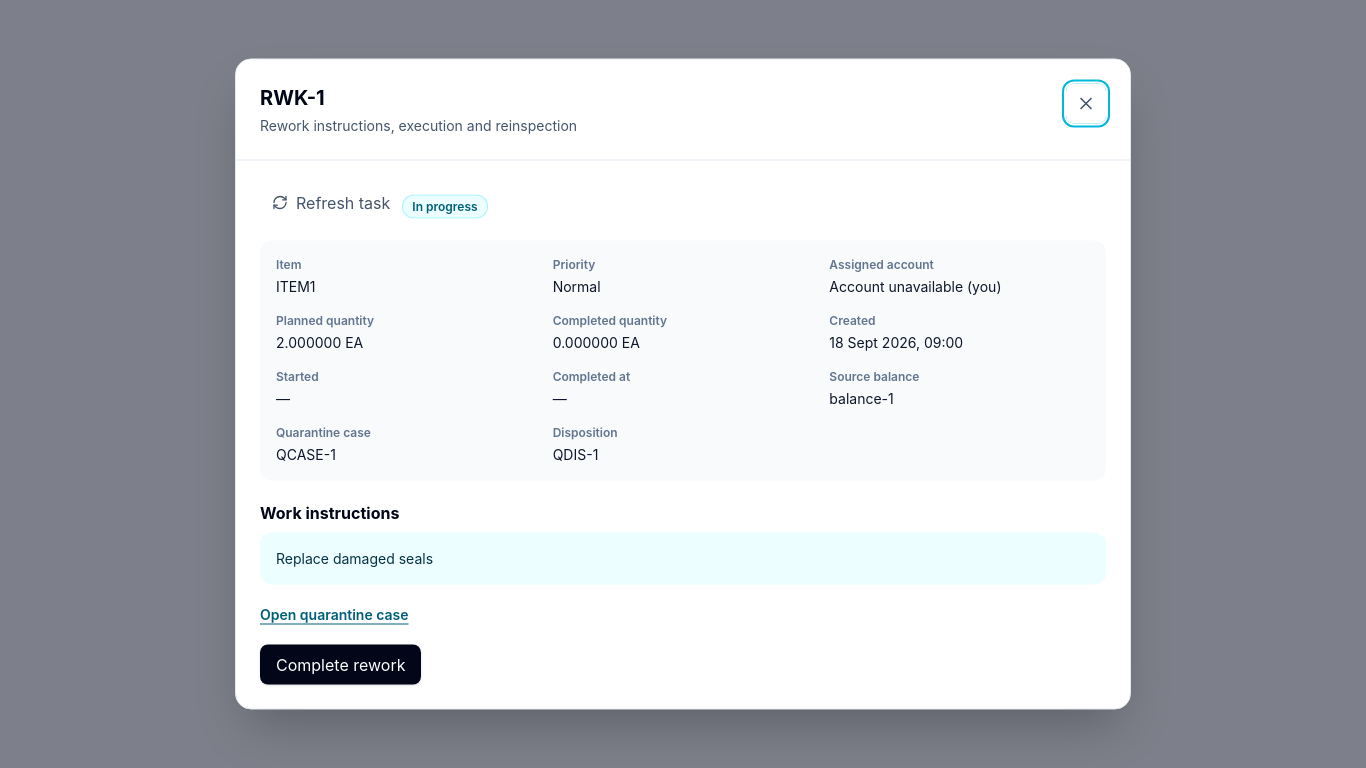
Test: omits optional blank completion notes and cannot partially complete quantity
Click the button "Complete rework": point(341, 664) [260,644,422,684]
(page scrolled)
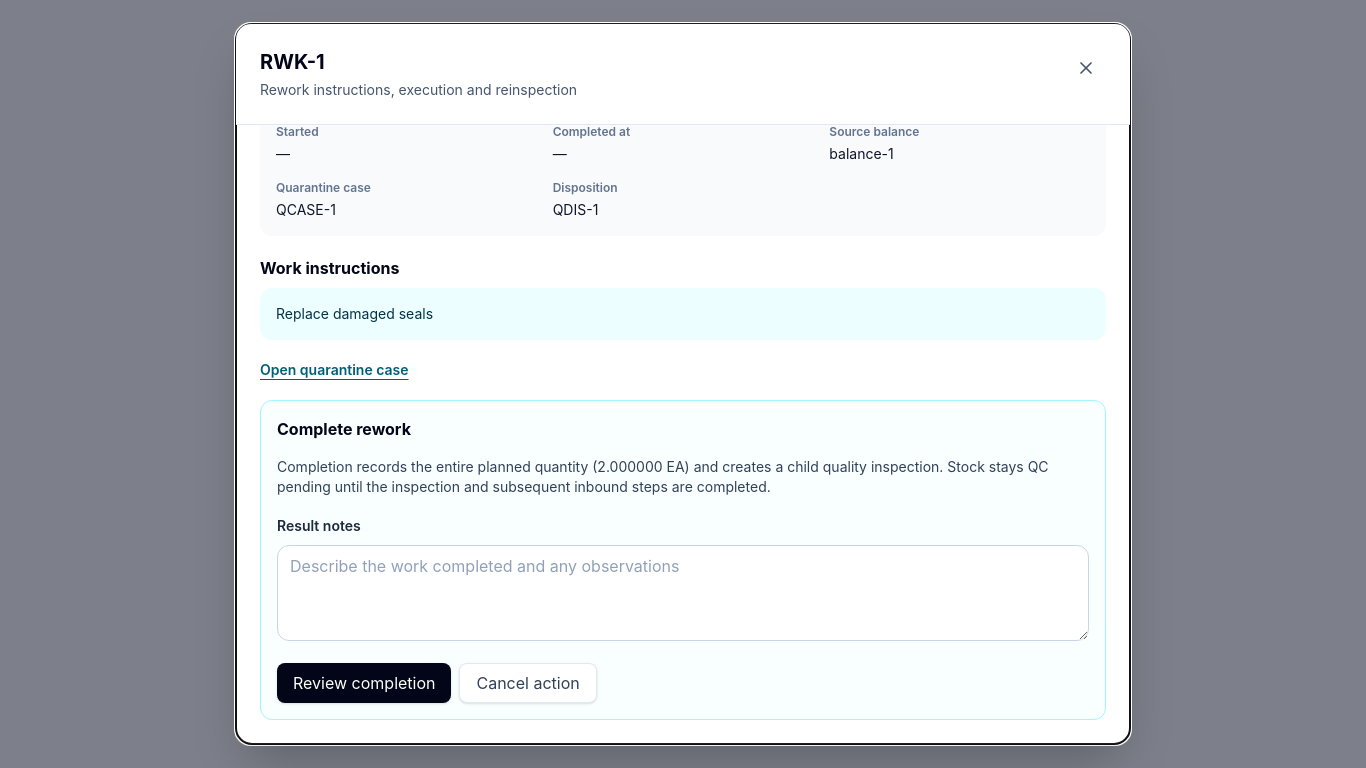
Click the button "Review completion": point(364, 683) [277,663,452,703]
(page scrolled)
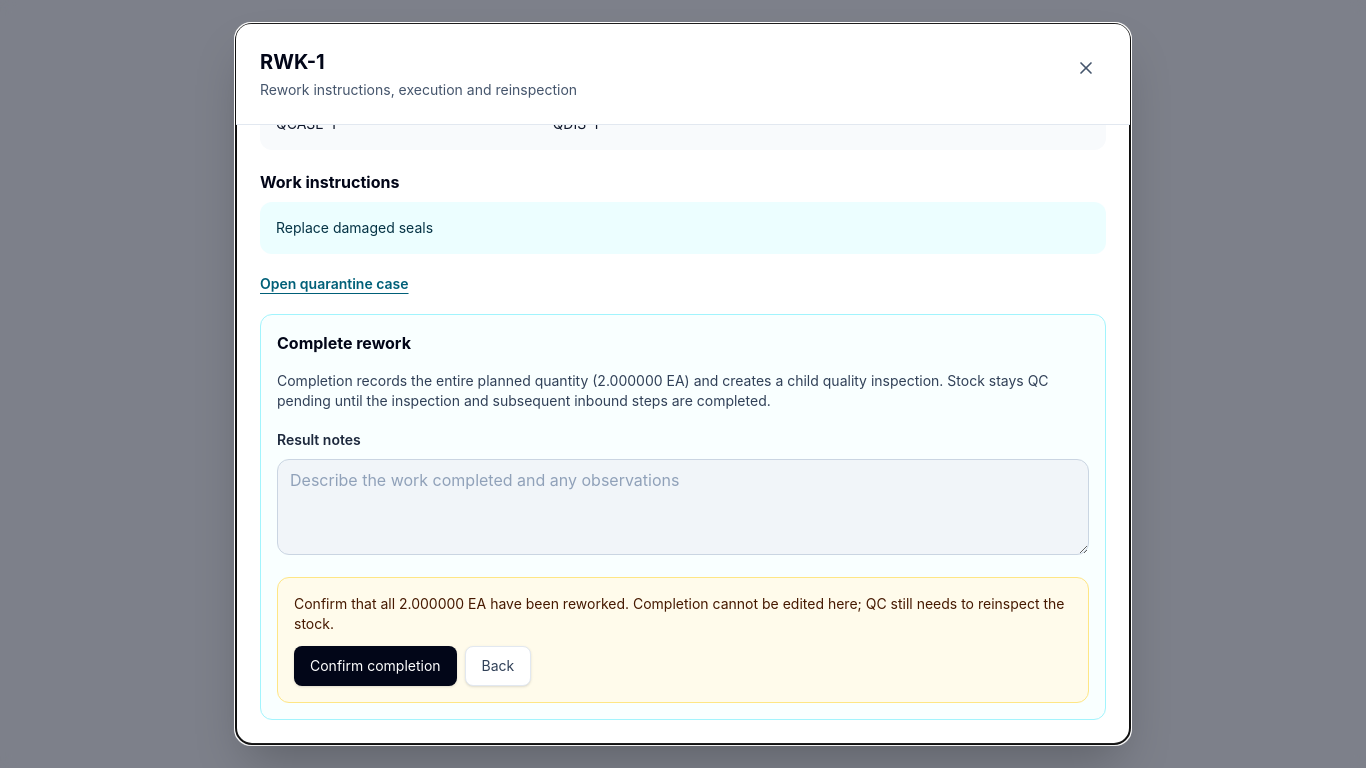
Click the button "Confirm completion": point(375, 666) [294,646,457,686]
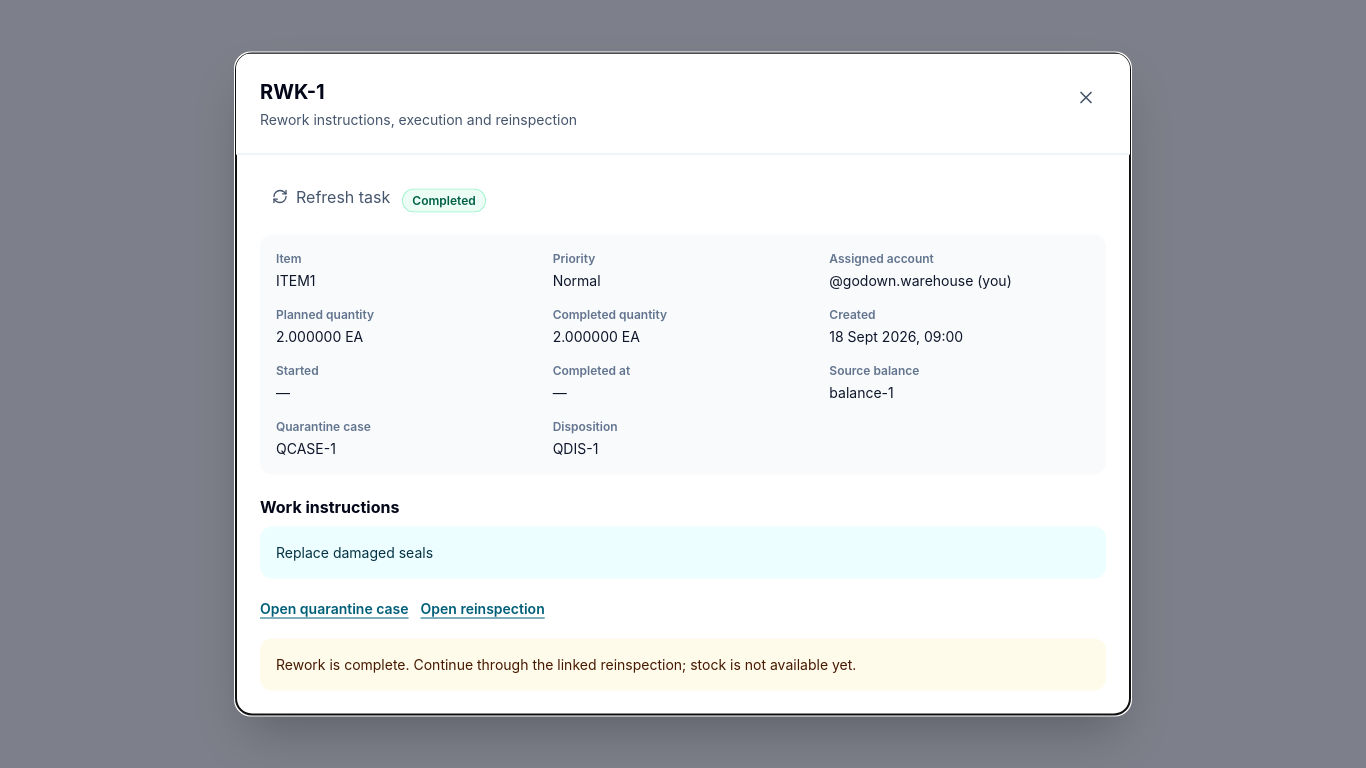
Now the link "Open reinspection" is shown, box [420,598,545,618]
